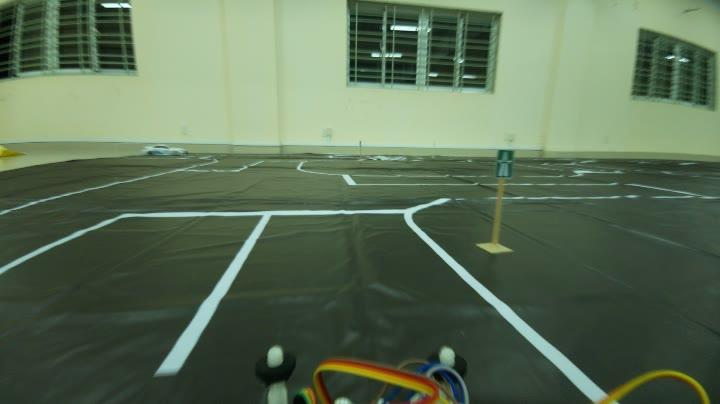highway_entry: (489, 145, 515, 180)
